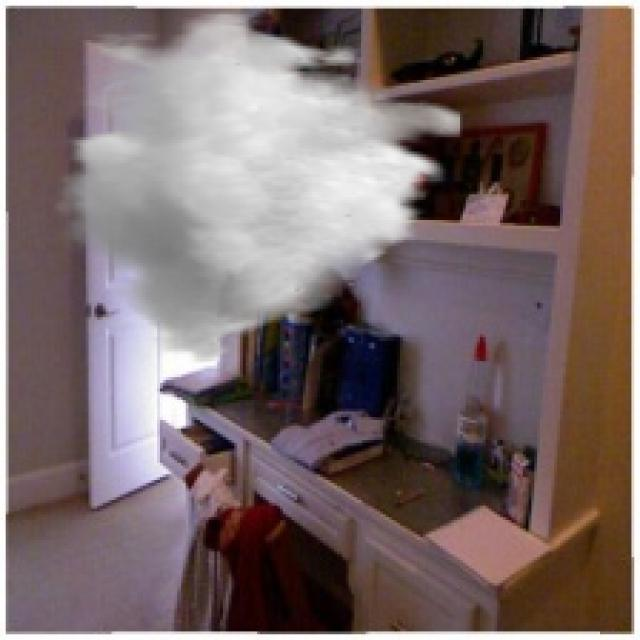smoke: (54, 11, 463, 368)
